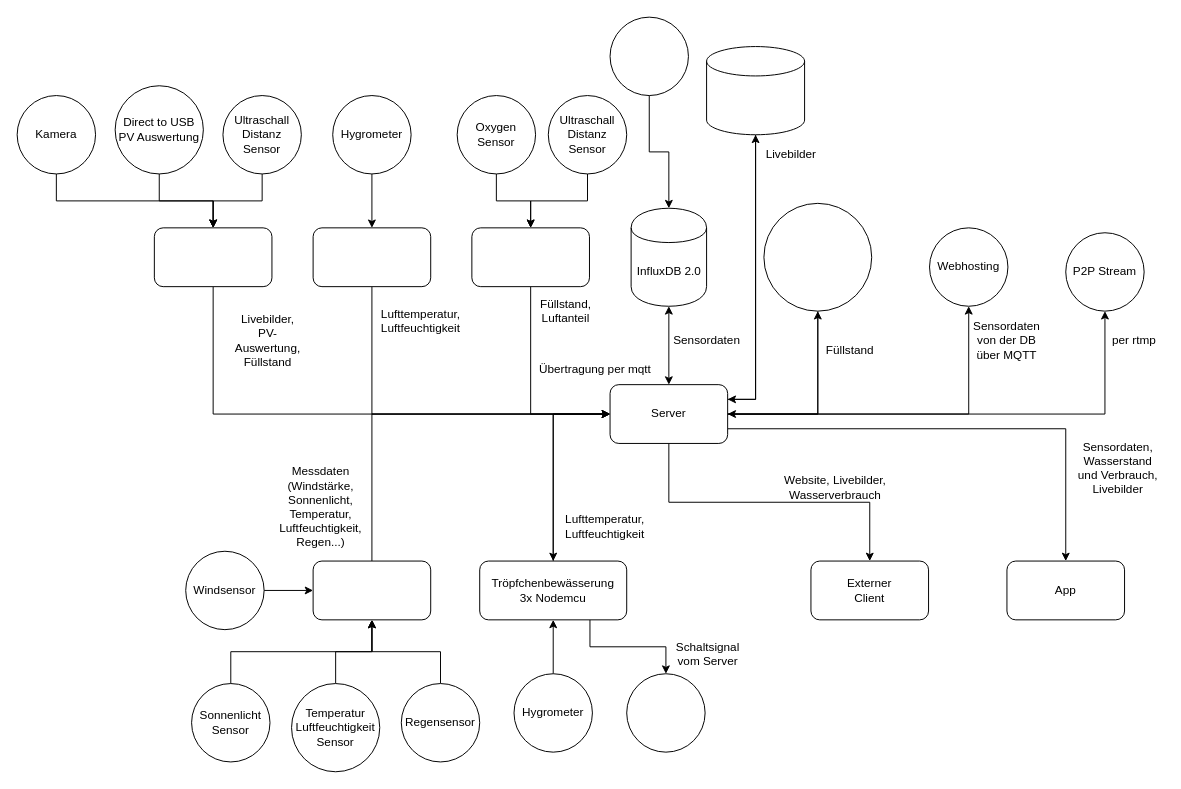
This 1181x789 diagram has some shape labels left out. The centre of each missing label's shape, as x and y in pixels:
"Deep Water Culture 2x Nodemcu" goes at point 530,257.
"Dutch Bucket 1x Nodemcu" goes at point 371,257.
"Massenspeicher" goes at point 755,90.
"Ventil" goes at point 665,712.
"Wasserstand und Verbrauch errechnen" goes at point 817,256.
"Wassertanks / Schaltschrank 1x RPi" goes at point 212,257.
"Wetterstation 2x Nodemcu" goes at point 371,590.
"Zeitstempel für Daten" goes at point 648,56.
